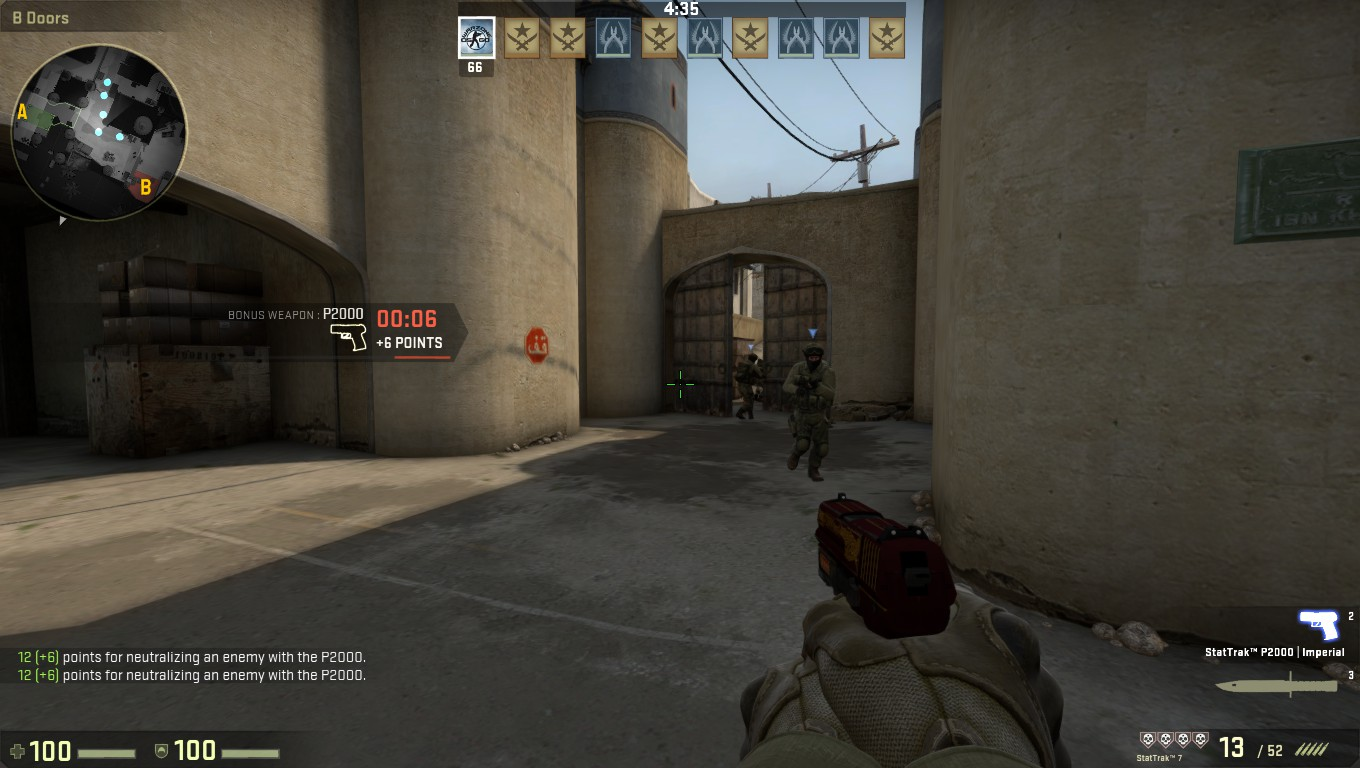c: (784, 341, 832, 475), (734, 351, 760, 413)
ch: (795, 341, 827, 371), (742, 350, 760, 362)
